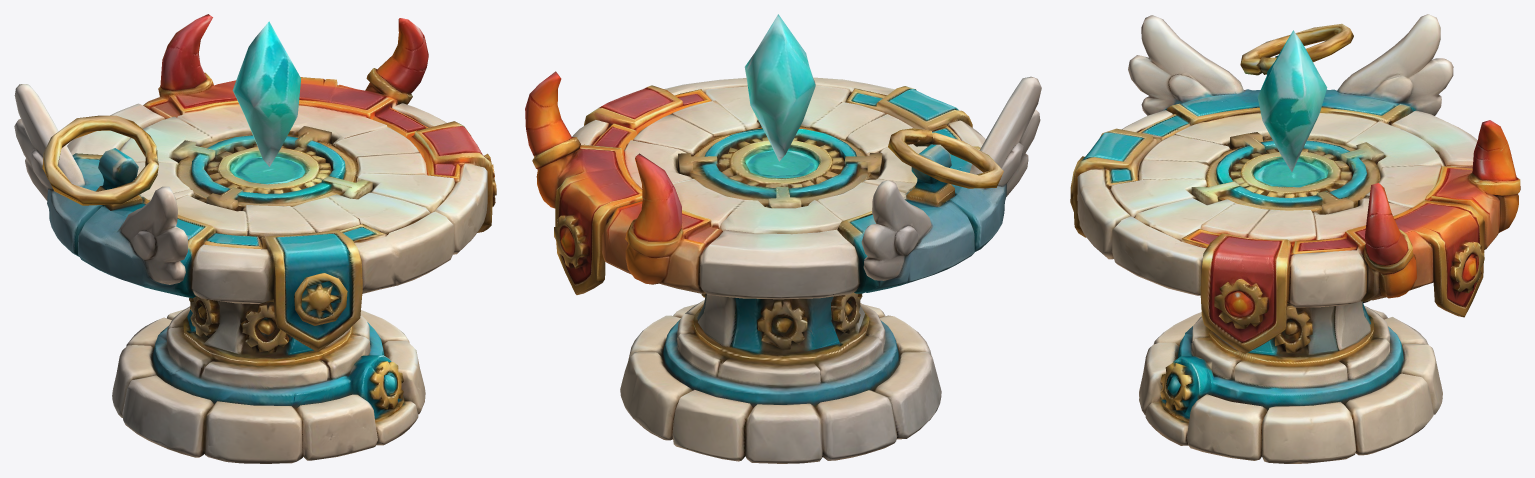
The model's file is X_Altar_fixed.glb.
The picture shows the model from 3 angles, left to right: view 1: azimuth 30°, elevation 25°; view 2: azimuth 150°, elevation 25°; view 3: azimuth 270°, elevation 25°; orthographic projection. The views are drawn at different scales.
Parts seen in each view (by area): view 1: tripo_node_2b5f0dae-65a8-4ec3-a453-499e96c90e8d; view 2: tripo_node_2b5f0dae-65a8-4ec3-a453-499e96c90e8d; view 3: tripo_node_2b5f0dae-65a8-4ec3-a453-499e96c90e8d.
Part boxes in pixels (<box>): tripo_node_2b5f0dae-65a8-4ec3-a453-499e96c90e8d: <box>14,14,496,463</box>; tripo_node_2b5f0dae-65a8-4ec3-a453-499e96c90e8d: <box>525,14,1041,463</box>; tripo_node_2b5f0dae-65a8-4ec3-a453-499e96c90e8d: <box>1070,14,1520,463</box>.
Size of the model in its own units: 0.9805 by 0.8533 by 0.9319.
Materials: 1 (1 with a texture image).
